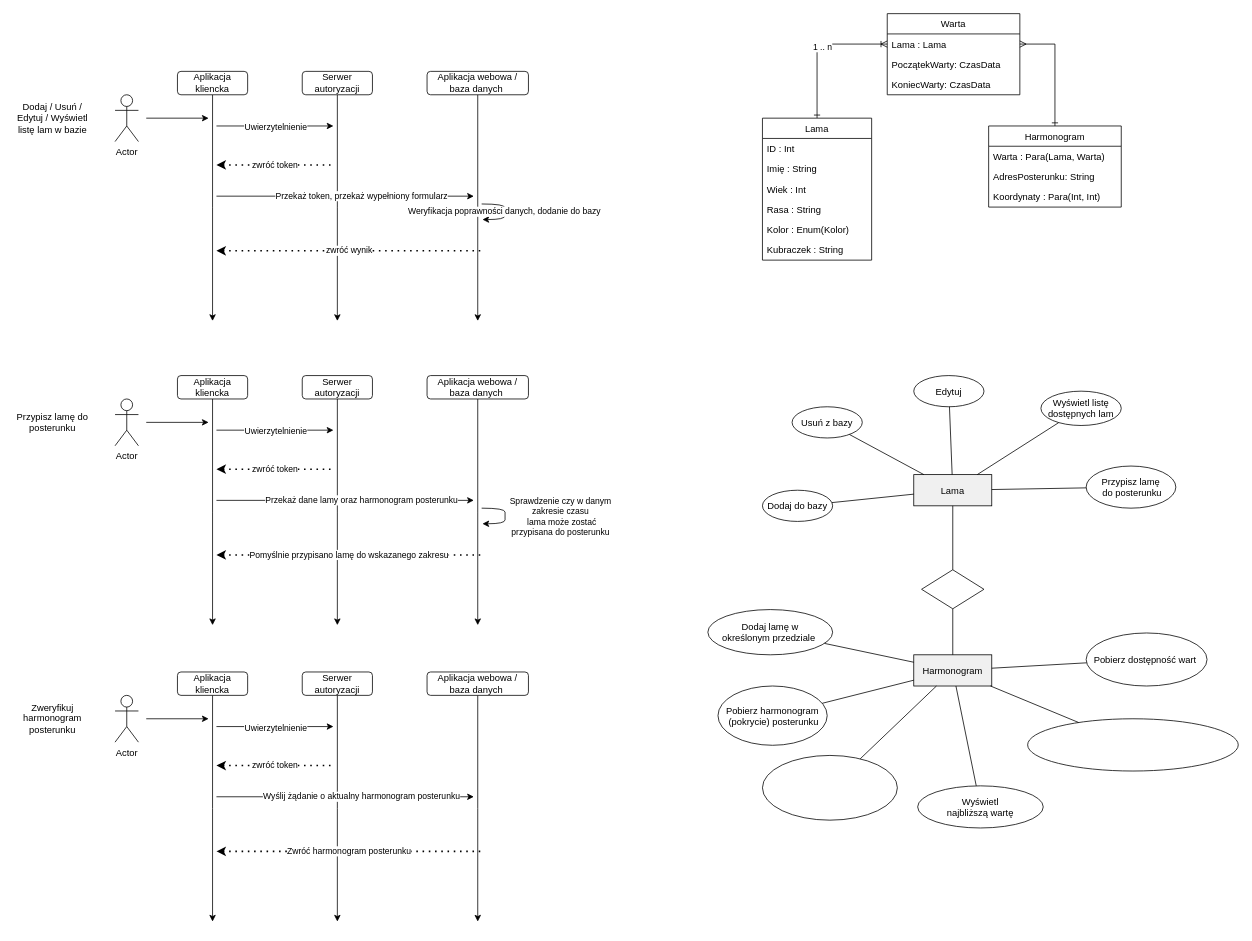
This 1252x941 diagram has some shape labels left out. Each missing label, with the centre of its shape:
Posterunek: point (952, 589)
Sortuj warty przypisane do posterunku względem określonych kryteriów: point (1132, 744)
Zweryfikuj poprawność, nienakładanie się posterunków: point (829, 787)
